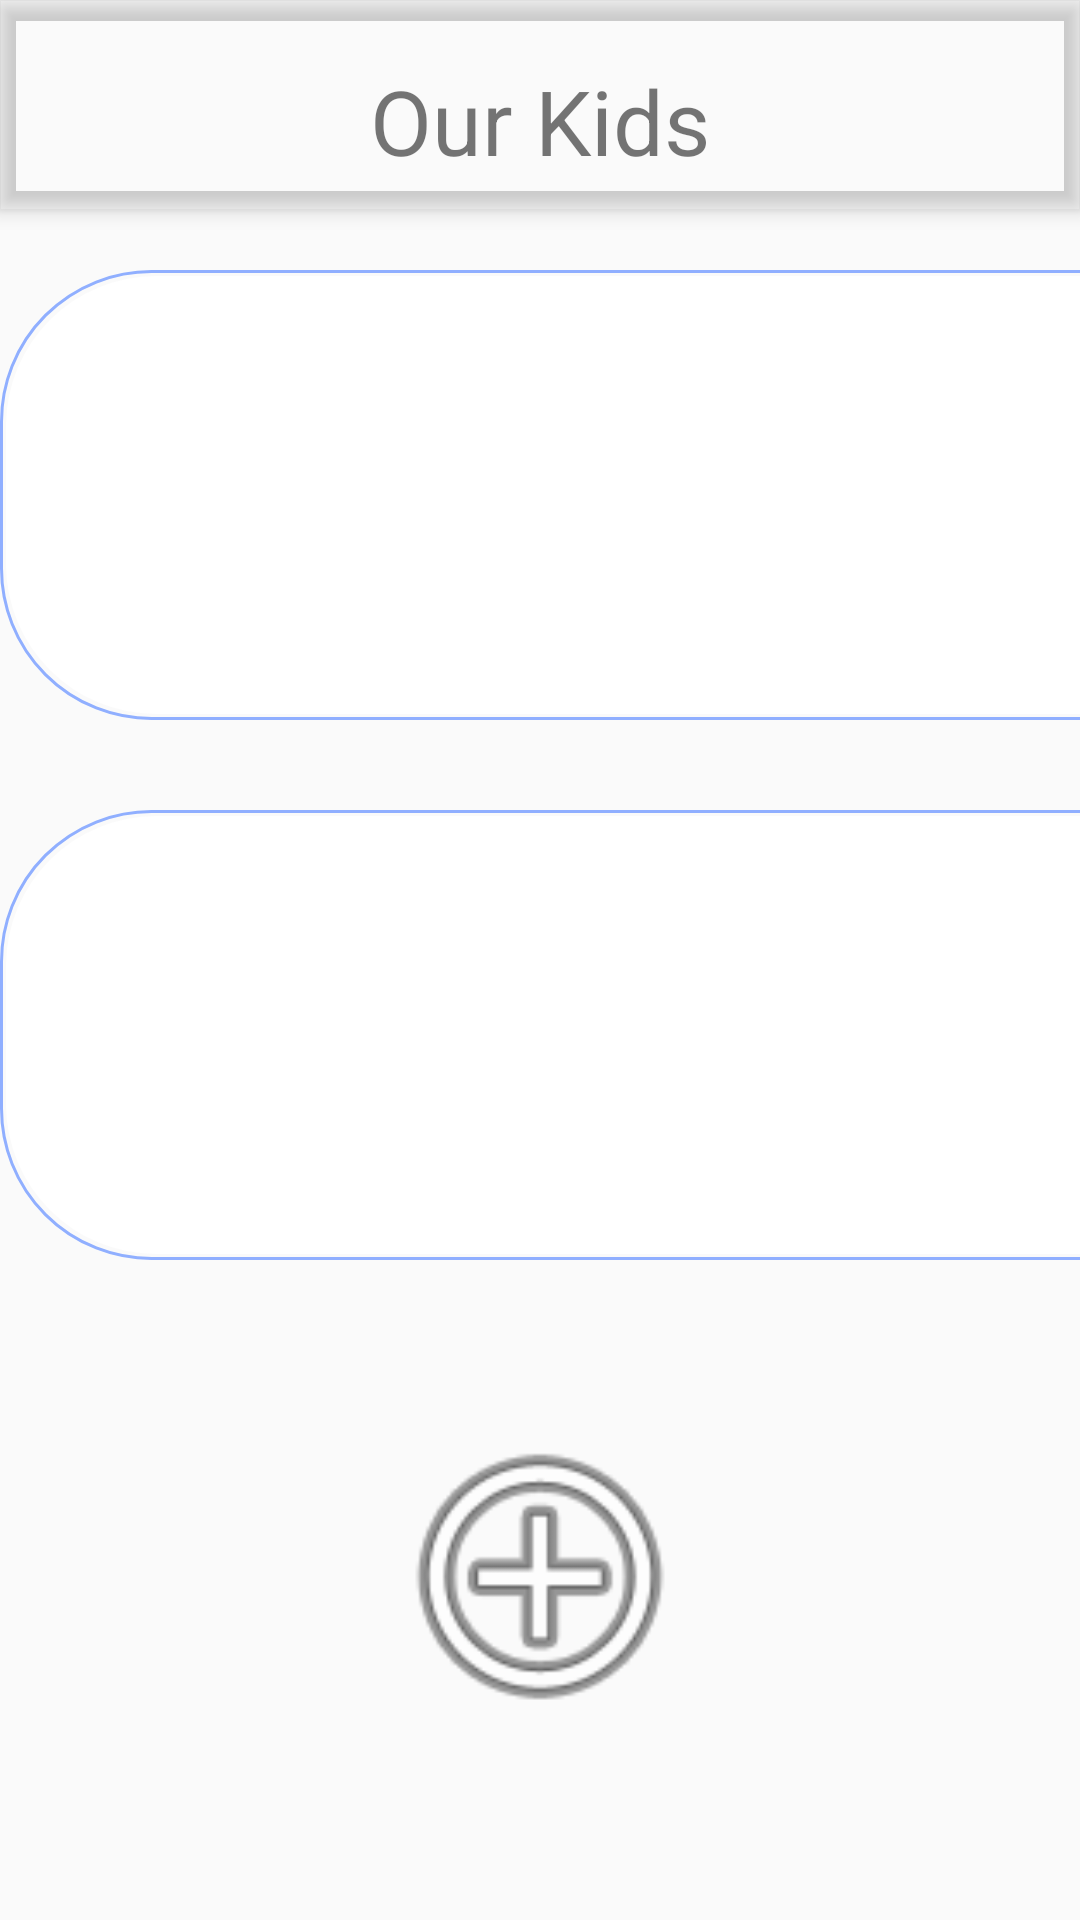

Icons on this 1080px×1920px Android screen, each with its box as bbox=[x1, y1, x2, y2]:
add: bbox=[417, 1454, 663, 1699]
